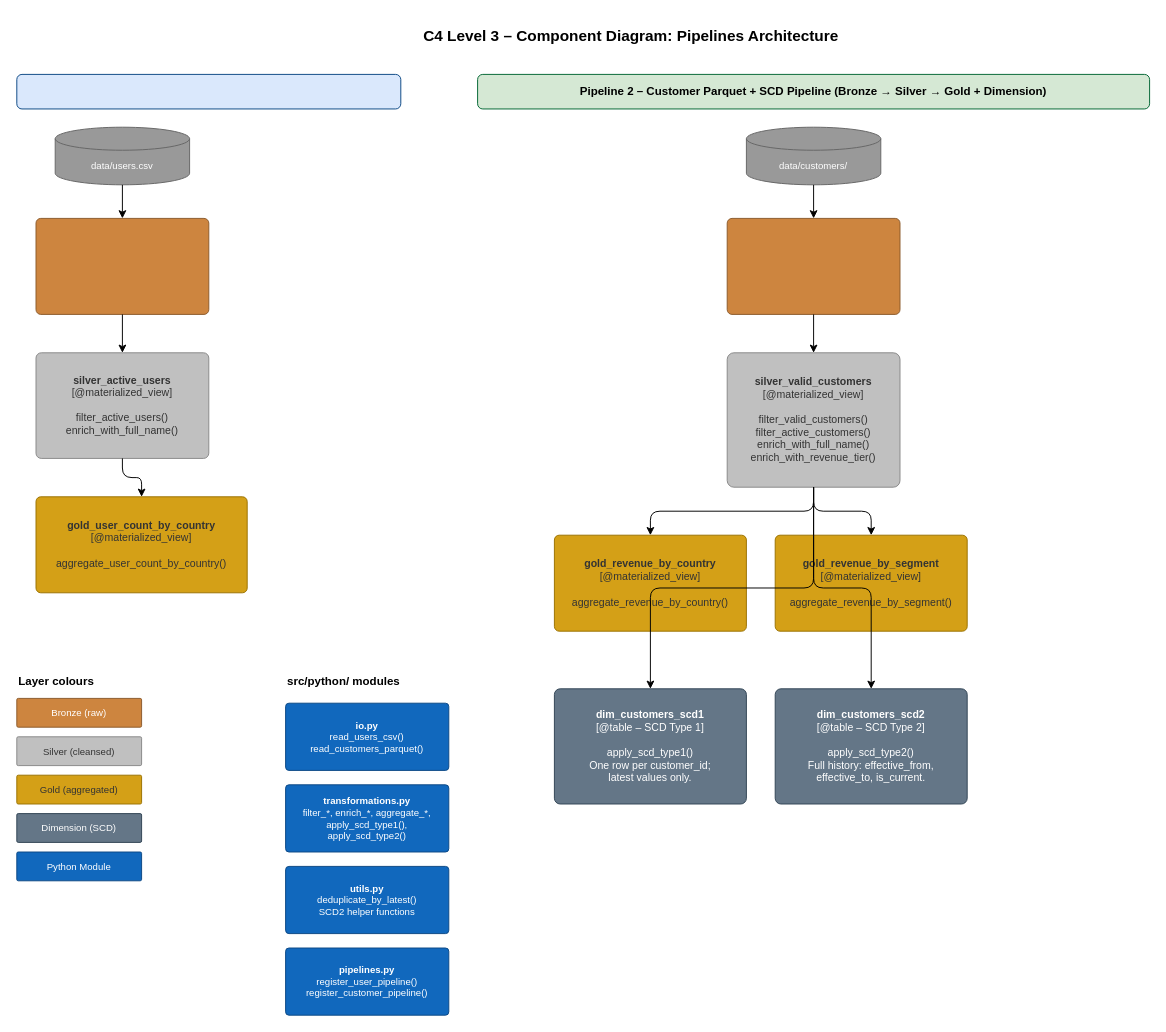
Image size: 1166x1032. Some labels were removed from this diagram. Each missing label, with the centre of its shape:
"bronze_customers [@table] read_customers_parquet() Raw Parquet ingestion." belongs at [813,265].
"bronze_users [@table] read_users_csv() Raw CSV ingestion." belongs at [122,265].
"Pipeline 1 – User CSV Pipeline (Bronze → Silver → Gold)" belongs at [208,91].
